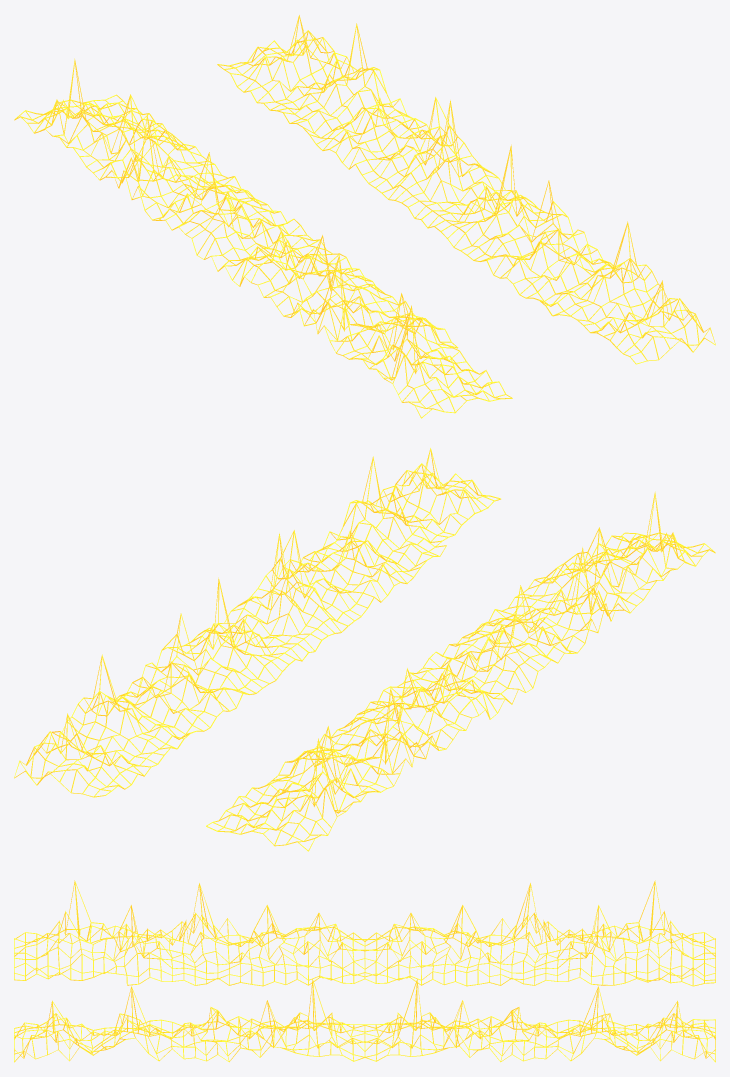
The model's file is Wave Sides.fbx.
The picture shows the model from 3 angles, top to bottom: view 1: azimuth 30°, elevation 25°; view 2: azimuth 150°, elevation 25°; view 3: azimuth 270°, elevation 25°; orthographic projection. The views are drawn at different scales.
Parts seen in each view (by area): view 1: pasted__Plane, Plane; view 2: pasted__Plane, Plane; view 3: pasted__Plane, Plane.
Part boxes in pixels (x1=…): pasted__Plane: x1=14, y1=58, x2=512, y2=418; Plane: x1=217, y1=15, x2=715, y2=364; pasted__Plane: x1=206, y1=491, x2=715, y2=851; Plane: x1=14, y1=448, x2=500, y2=797; pasted__Plane: x1=14, y1=880, x2=715, y2=986; Plane: x1=14, y1=979, x2=715, y2=1062.
Size of the model in its own units: 11.37 by 3.23 by 27.13.
